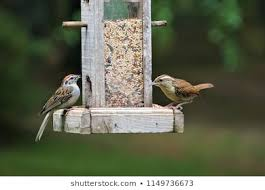home_sparrow: (32, 67, 85, 148), (146, 72, 215, 115)
